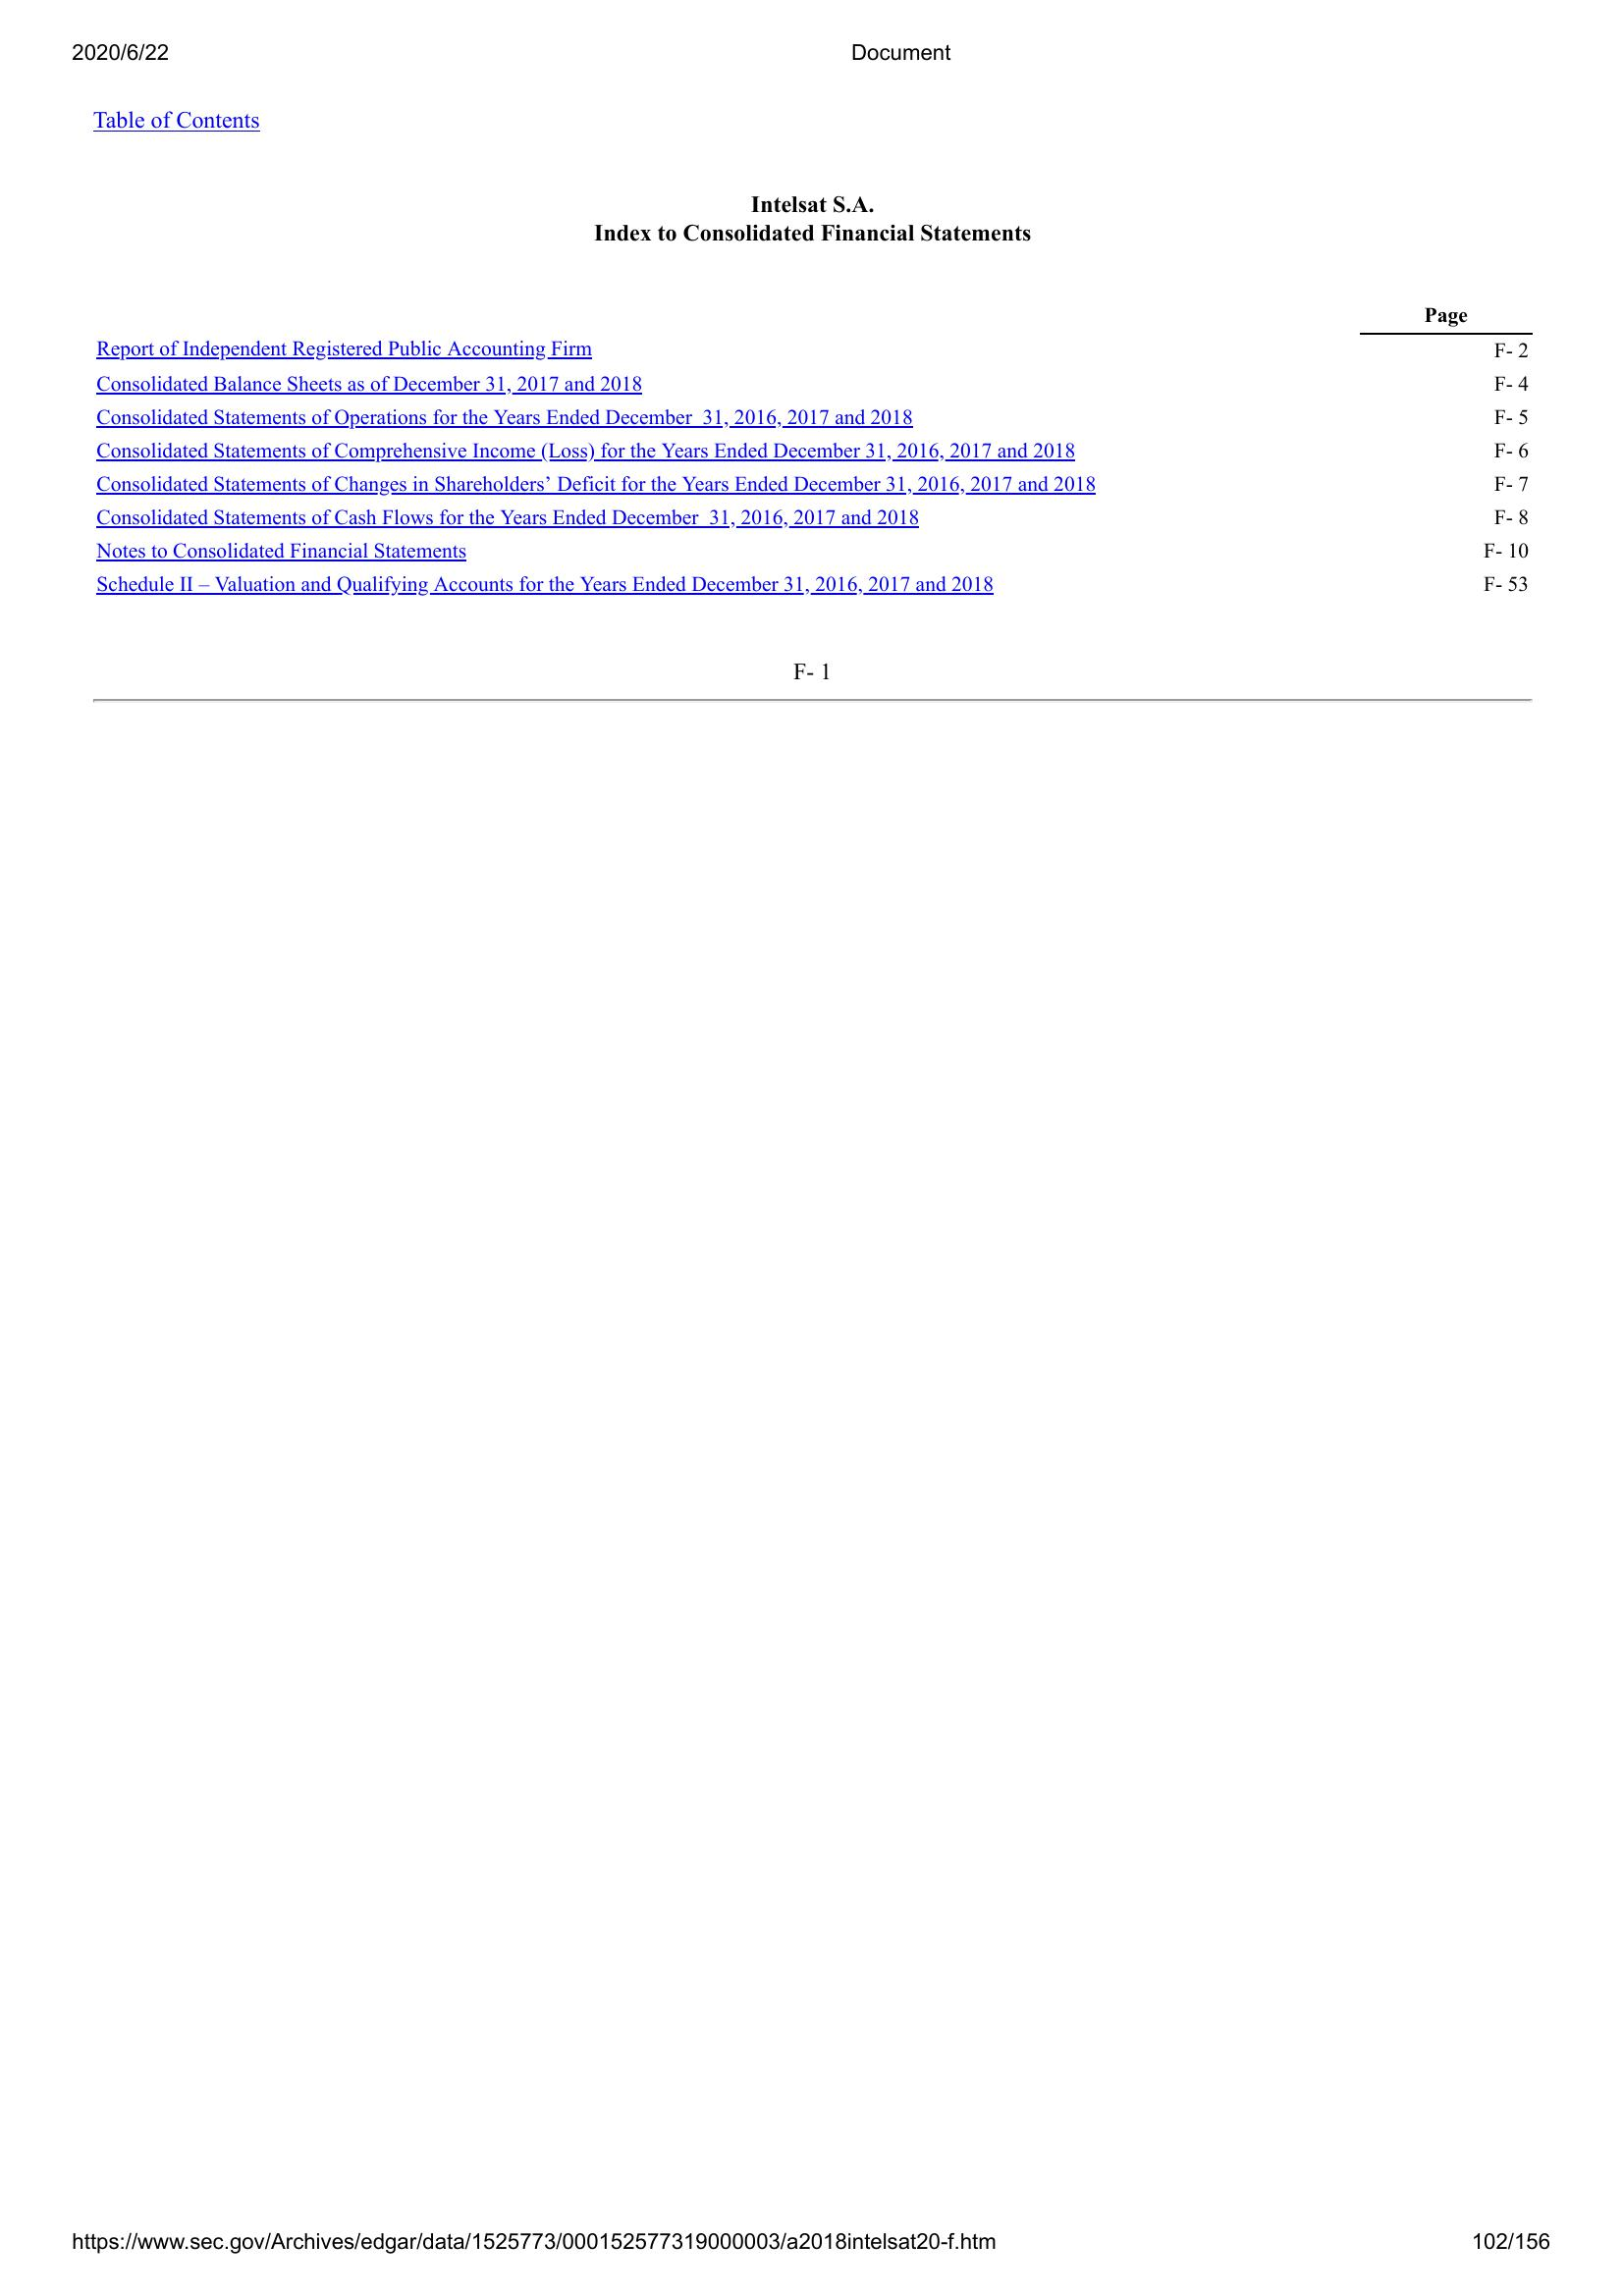table: (88, 302, 1539, 607)
